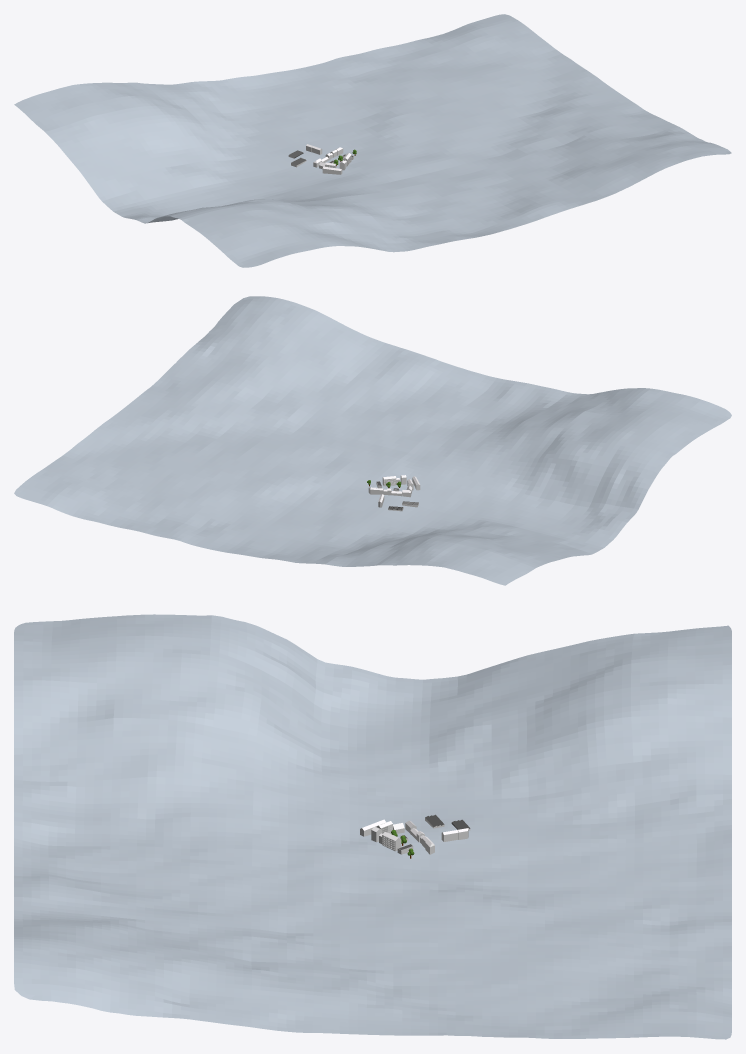
File: Arrenberg-Blender_02.gltf
The picture shows the model from 3 angles, top to bottom: view 1: azimuth 30°, elevation 25°; view 2: azimuth 150°, elevation 25°; view 3: azimuth 270°, elevation 25°; orthographic projection. The views are drawn at different scales.
Parts seen in each view (by area): view 1: Terrain.002; view 2: Terrain.002; view 3: Terrain.002.
Part boxes in pixels (box(x1,y1,x2,y2)): Terrain.002: box(14, 14, 731, 267); Terrain.002: box(14, 296, 731, 585); Terrain.002: box(14, 614, 731, 1039).
Size of the model in its own units: 1591 by 149 by 1299.
